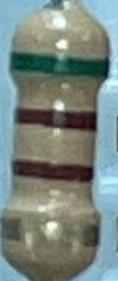Brown: (12, 160, 94, 185), (15, 107, 95, 132)
Green: (9, 49, 109, 80)
Side-Silver: (1, 215, 101, 250)
